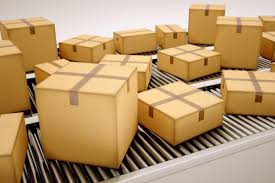package: (32, 61, 136, 173), (137, 81, 226, 145), (1, 17, 64, 68), (215, 14, 266, 71), (220, 69, 275, 120), (158, 42, 226, 80), (102, 50, 165, 89), (1, 39, 34, 111), (187, 3, 238, 47), (59, 29, 123, 62), (115, 23, 167, 57), (2, 112, 26, 183), (153, 20, 198, 50)
